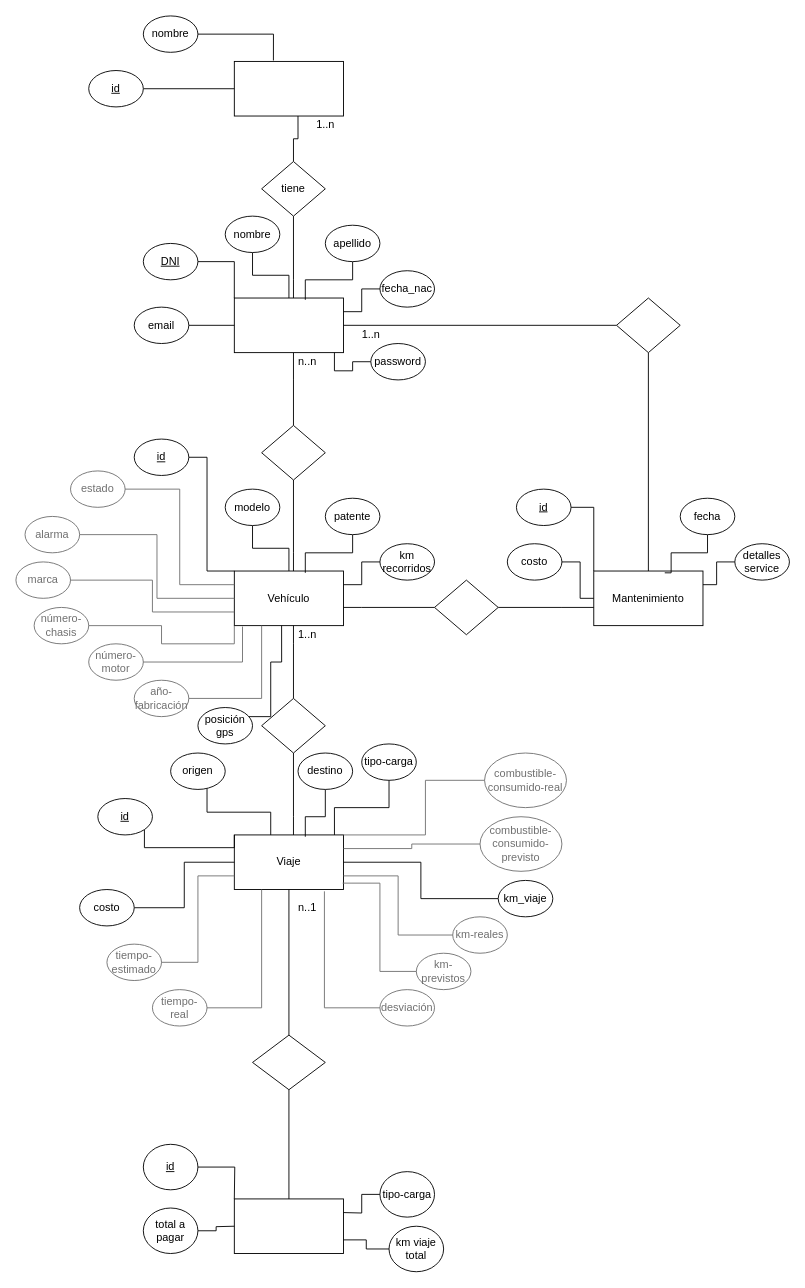
The diagram is 805 pixels wide and 1288 high, and some of its shapes have lost their labels. Each missing label, with the box of its shape:
Factura: (233, 1198, 344, 1254)
maneja: (261, 425, 325, 480)
realiza: (261, 698, 325, 753)
realiza service: (434, 579, 498, 635)
Rol: (233, 61, 344, 116)
se encarga: (616, 297, 680, 353)
se genera: (252, 1034, 325, 1090)
Usuario: (233, 297, 344, 353)
